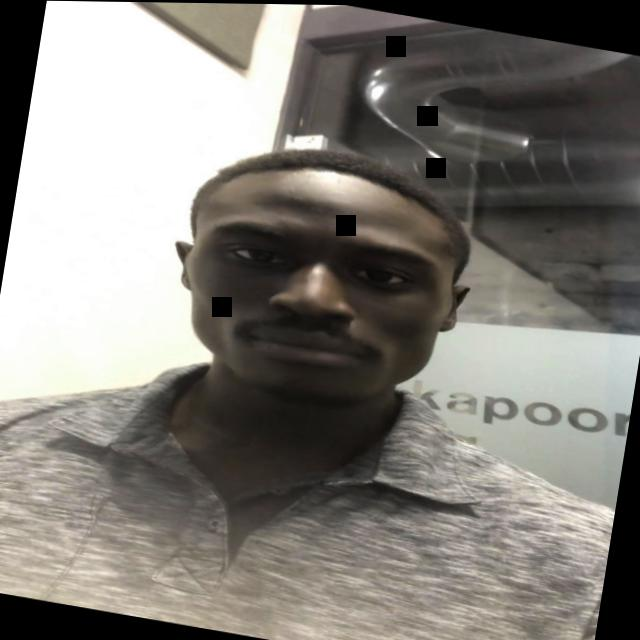NO-Mask: (181, 164, 474, 415)
